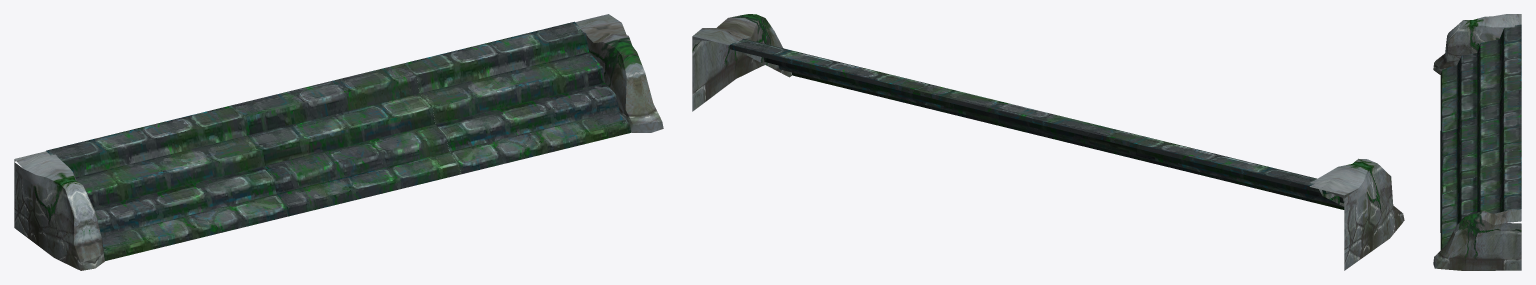
The model's file is stemple_quarter_stair_03.fbx.
3 views of the same model, side by side, from view 1: azimuth 30°, elevation 25°; view 2: azimuth 150°, elevation 25°; view 3: azimuth 270°, elevation 25° (orthographic). The views are drawn at different scales.
Visible parts, largest first — view 1: stemple_quarter_stair_03-0; view 2: stemple_quarter_stair_03-0; view 3: stemple_quarter_stair_03-0.
Part boxes in pixels (<box>): stemple_quarter_stair_03-0: <box>14,14,663,270</box>; stemple_quarter_stair_03-0: <box>692,14,1404,270</box>; stemple_quarter_stair_03-0: <box>1433,14,1521,270</box>.
Size of the model in its own units: 12.91 by 1.51 by 2.31.
